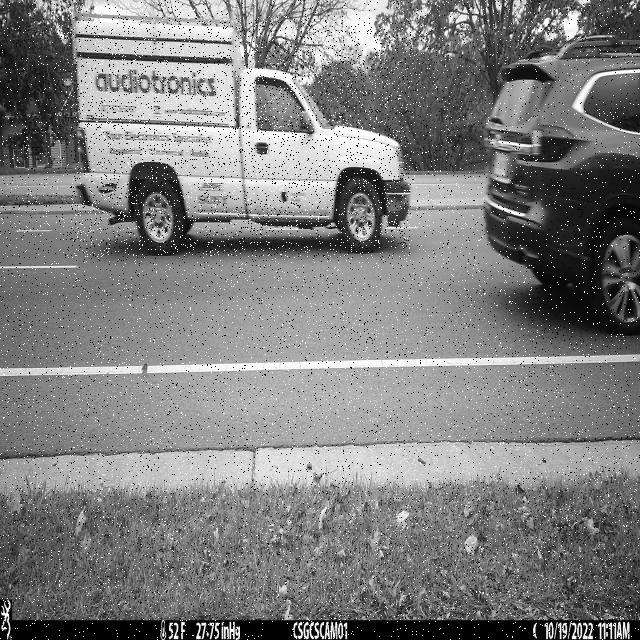Pickup- Utility: (71, 17, 411, 257)
